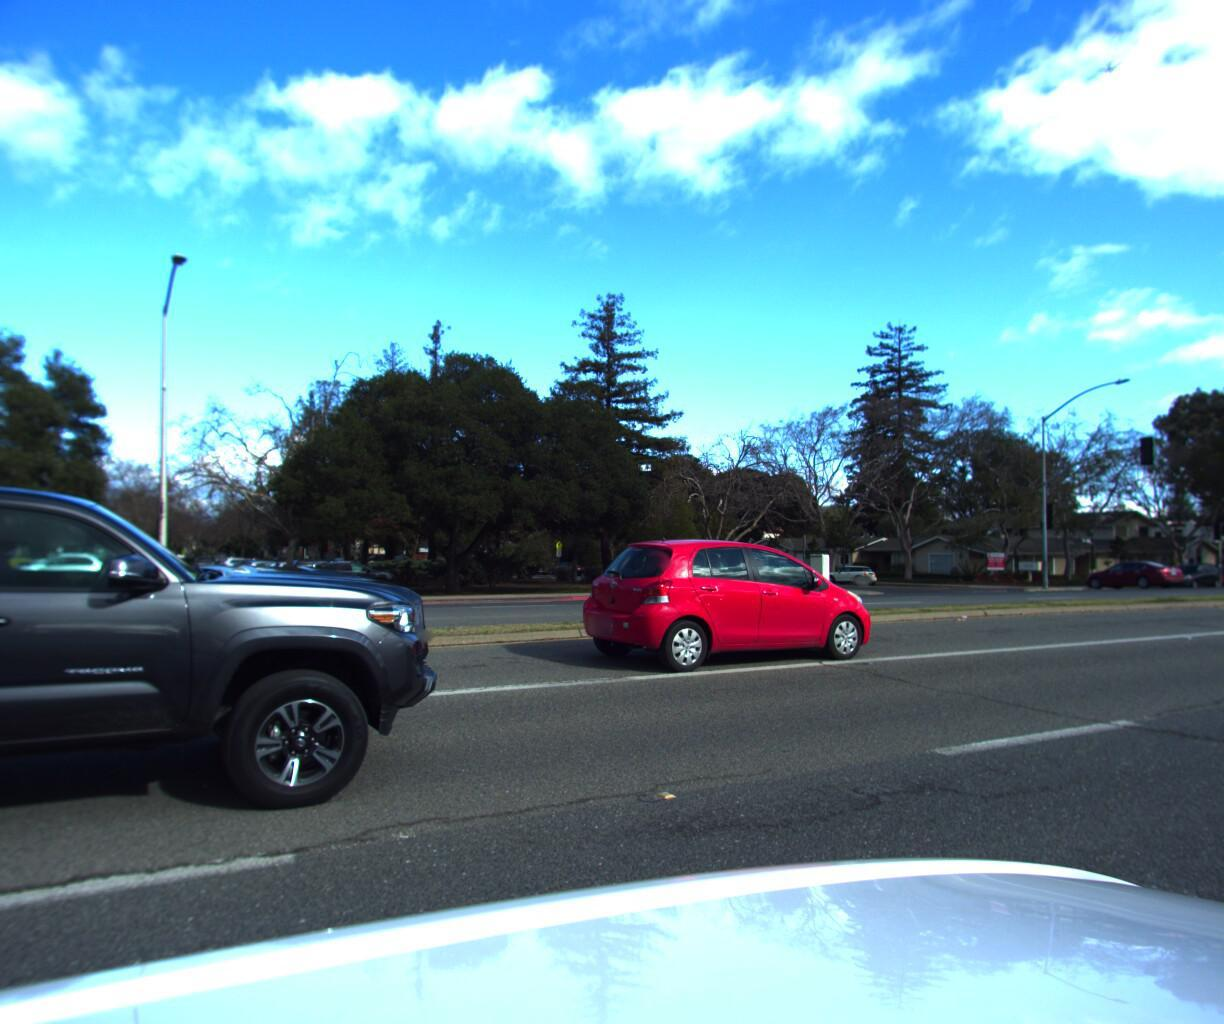car: (559, 531, 878, 678), (1076, 553, 1183, 590), (822, 560, 877, 583), (1195, 563, 1224, 585)
